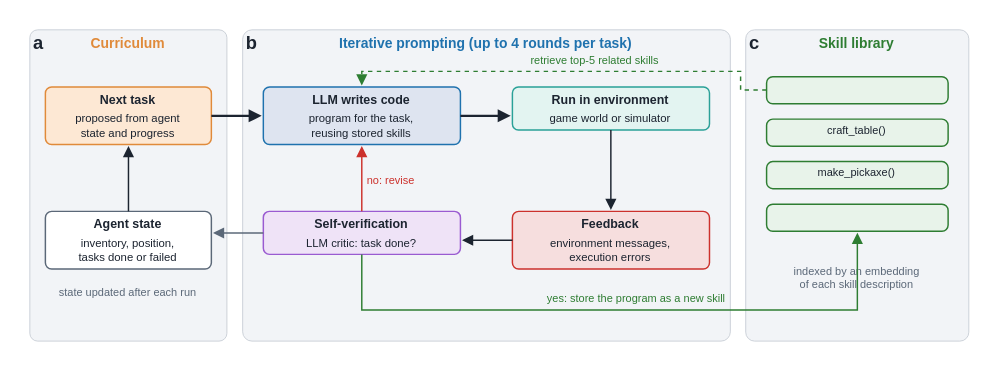
Some shapes in this 999 by 371 pixel diagram are drawn without their labels. The shapes that lost their labels are listed below. From the top down, each one's box as (x1, y1, x2, y2) in pixels, then its label:
(765, 75, 948, 104): mine_wood()
(765, 203, 948, 231): smelt_iron()
